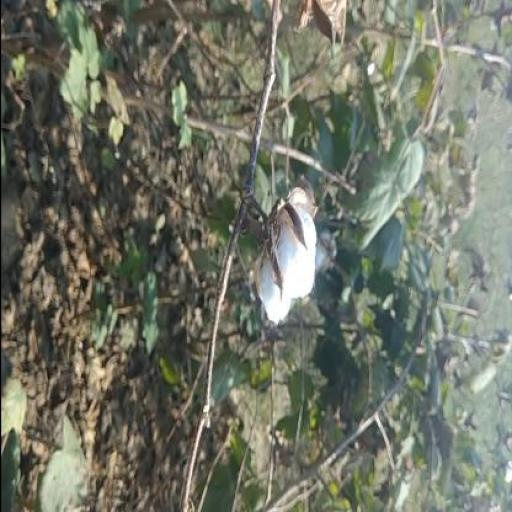cotton_ready: (228, 179, 328, 326)
